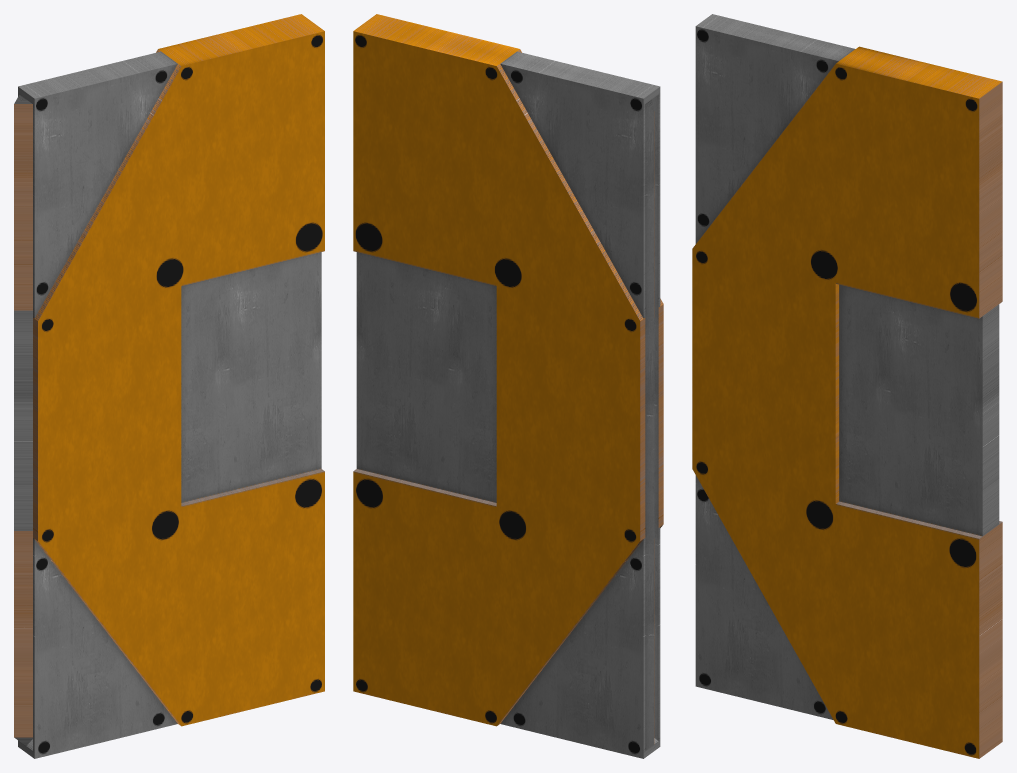
File: Door_S_In.fbx
The picture shows the model from 3 angles, left to right: view 1: azimuth 30°, elevation 25°; view 2: azimuth 150°, elevation 25°; view 3: azimuth 330°, elevation 25°; orthographic projection.
Visible parts, largest first — view 1: Door_S_In; view 2: Door_S_In; view 3: Door_S_In.
Boxes of the visible parts, x1=… form: Door_S_In: x1=14, y1=14, x2=324, y2=758; Door_S_In: x1=353, y1=14, x2=663, y2=758; Door_S_In: x1=692, y1=14, x2=1002, y2=758.
Bounding box in the file's own units: 1.01 × 2.18 × 0.14.
1 material, 1 textured.
